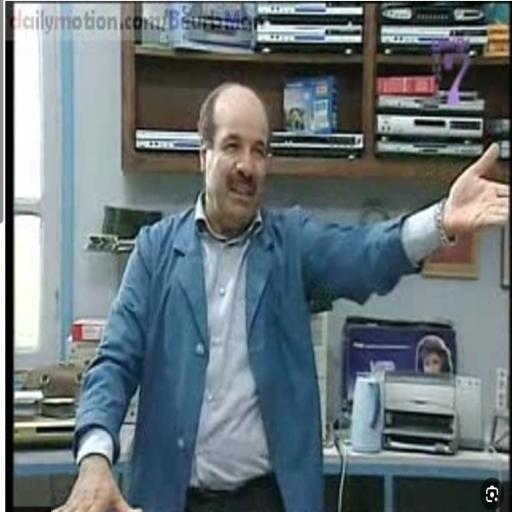beji_matrix: (198, 83, 268, 237)
